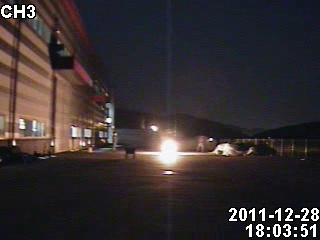fire: (158, 138, 179, 155)
